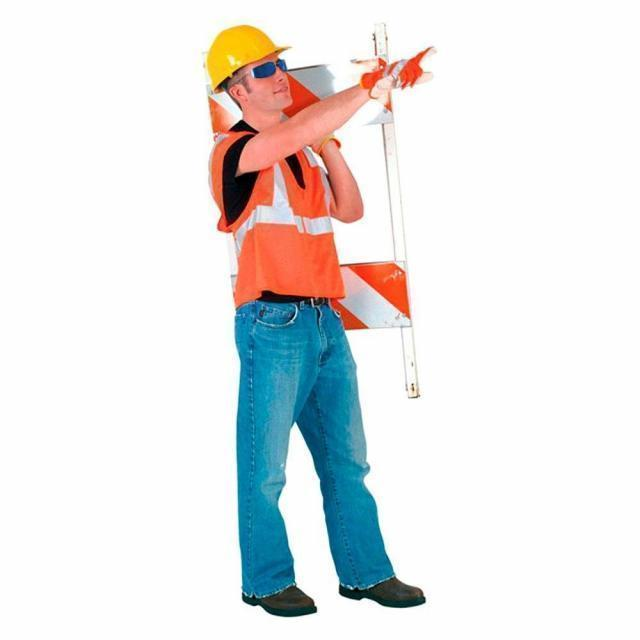helmet: (200, 22, 292, 96)
vest: (206, 120, 354, 310)
